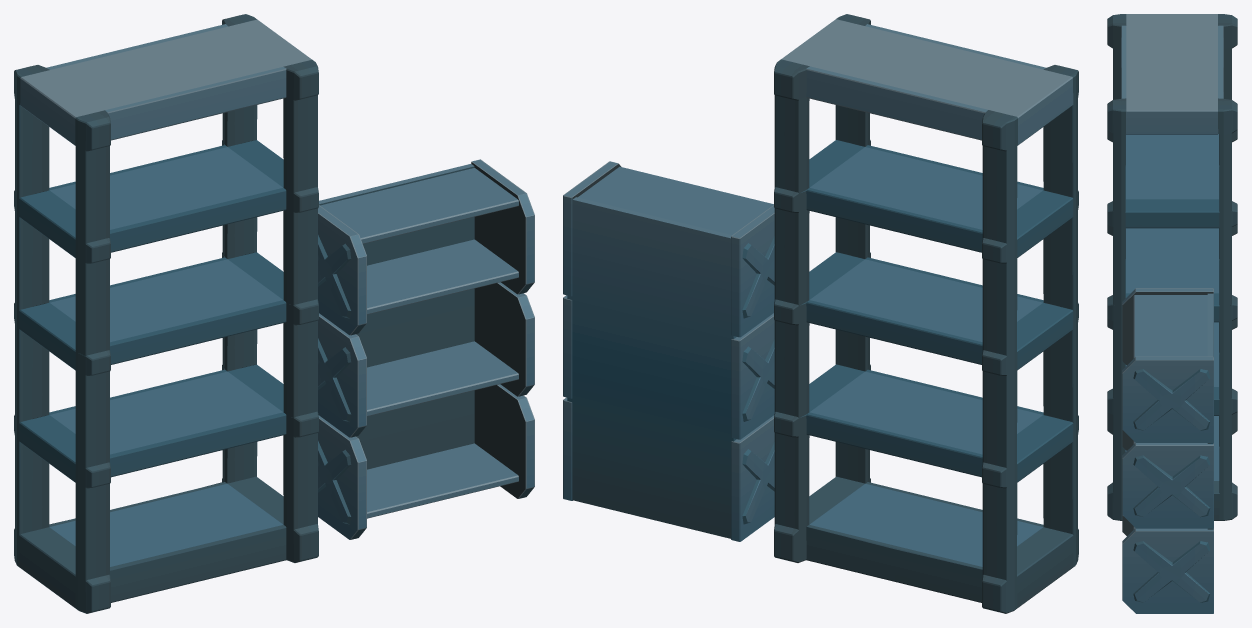
The model's file is Updated Shelves.fbx.
3 views of the same model, side by side, from view 1: azimuth 30°, elevation 25°; view 2: azimuth 150°, elevation 25°; view 3: azimuth 270°, elevation 25° (orthographic). The views are drawn at different scales.
Visible parts, largest first — view 1: Cube.003, Cube.016; view 2: Cube.003, Cube.016; view 3: Cube.003, Cube.016.
Part boxes in pixels (x1=…): Cube.003: x1=14, y1=14, x2=318, y2=613; Cube.016: x1=318, y1=159, x2=534, y2=539; Cube.003: x1=774, y1=14, x2=1078, y2=613; Cube.016: x1=563, y1=161, x2=774, y2=541; Cube.003: x1=1107, y1=14, x2=1237, y2=520; Cube.016: x1=1122, y1=288, x2=1213, y2=613.
Size of the model in its own units: 8320 by 8547 by 2440.
1 material, 1 textured.
